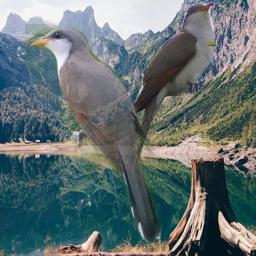Cuckoo: (25, 24, 166, 247), (124, 2, 216, 178)
